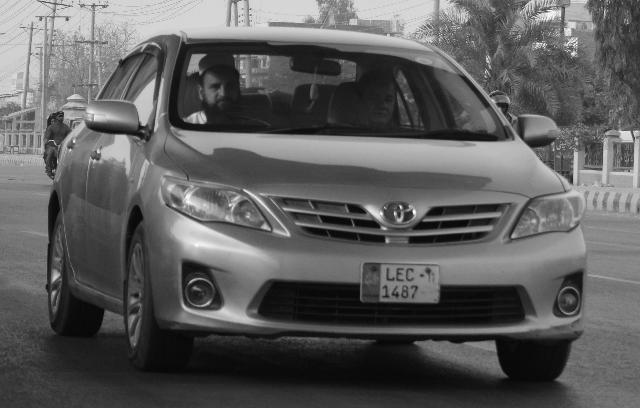Number: (380, 268, 420, 300)
